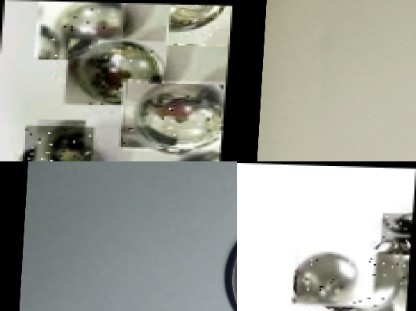ironball: (124, 77, 227, 150), (63, 37, 168, 105), (34, 0, 125, 57), (297, 242, 376, 306), (355, 251, 411, 311), (25, 123, 96, 162), (166, 3, 232, 43), (178, 127, 224, 162), (382, 211, 413, 241)
